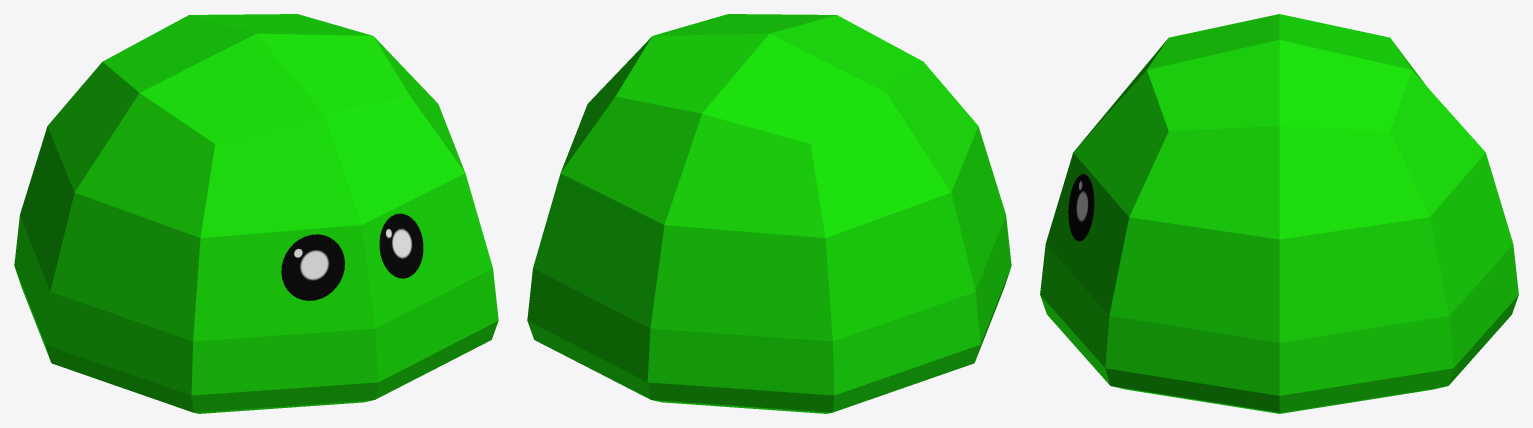
The model's file is GreenSlimefbx.fbx.
3 renders of one model, left to right at view 1: azimuth 30°, elevation 25°; view 2: azimuth 150°, elevation 25°; view 3: azimuth 270°, elevation 25°, orthographic.
Visible parts, largest first — view 1: Cube.002, Circle.003, Circle.002; view 2: Cube.002; view 3: Cube.002, Circle.002.
Boxes of the visible parts, bbox=[...] form: Cube.002: bbox=[14, 14, 498, 413]; Circle.003: bbox=[281, 234, 344, 300]; Circle.002: bbox=[379, 213, 423, 278]; Cube.002: bbox=[527, 14, 1011, 413]; Cube.002: bbox=[1040, 14, 1518, 413]; Circle.002: bbox=[1068, 174, 1094, 241].
Bounding box in the file's own units: 172 × 116 × 172.
Materials: 2 (1 with a texture image).
